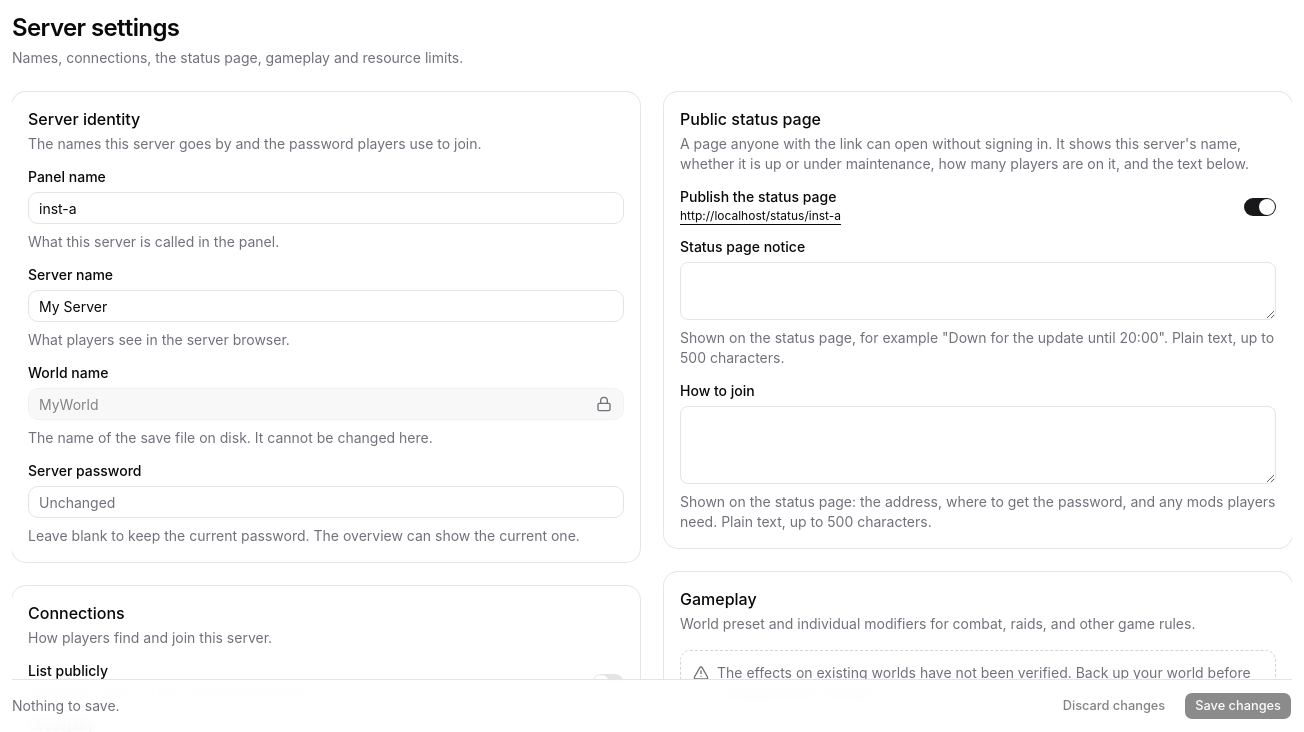
it: the server settings screen › renders a rejected status text beside its field, and locks it for a viewer
Type "Down until 20:00" into the text box labelled "Status page notice".
click(978, 291); type("Down until 20:00")  # box [680, 262, 1276, 320]
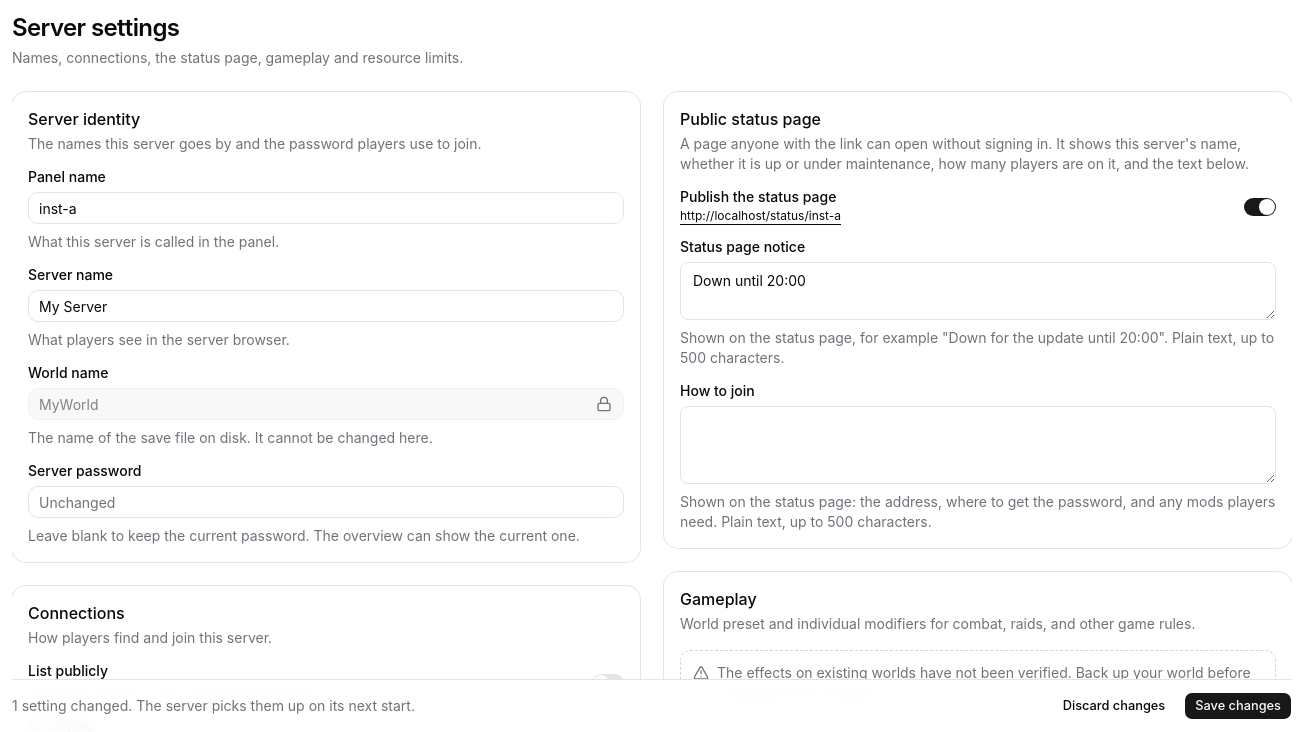
Click the button "Save changes".
click(1238, 706)  # box [1184, 692, 1292, 720]
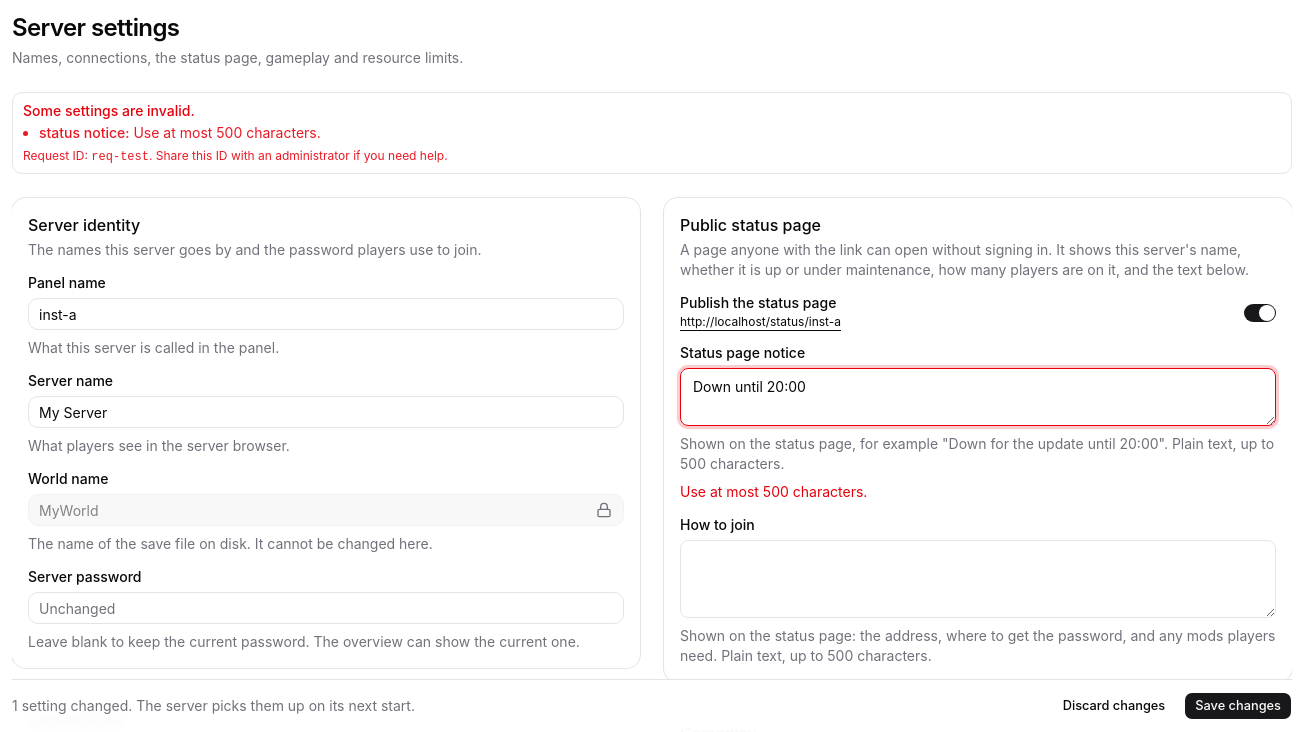
Result: the message with id "status_notice-error" reads "Use at most 500 characters." at [680, 483, 867, 500]
